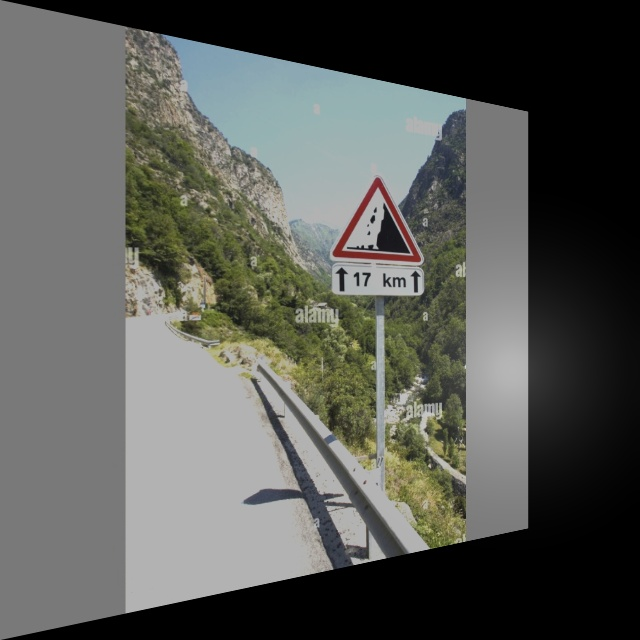Falling_Rocks: (332, 169, 420, 264)
